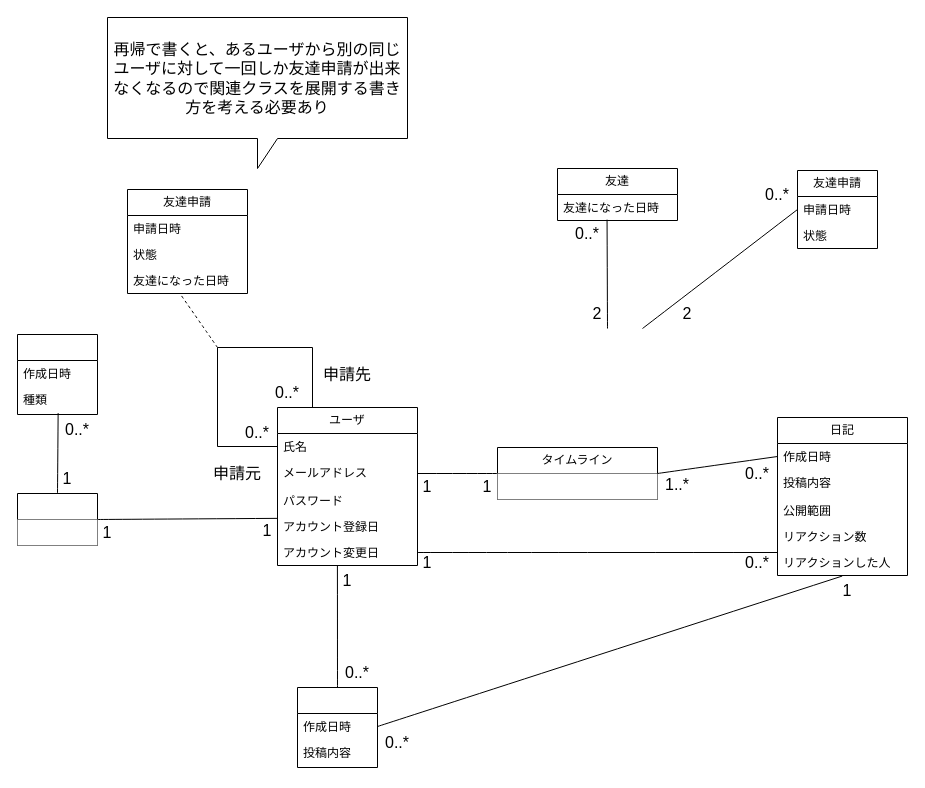
The diagram is 925 pixels wide and 788 high, and some of its shapes have lost their labels. The shapes that lost their labels are listed below. From the top down, each one's box as (x1, y1, x2, y2) in pixels, then its label:
(16, 334, 98, 414): 通知
(497, 473, 657, 499): 閲覧範囲
(16, 492, 98, 546): 通知一覧
(296, 686, 378, 768): コメント
